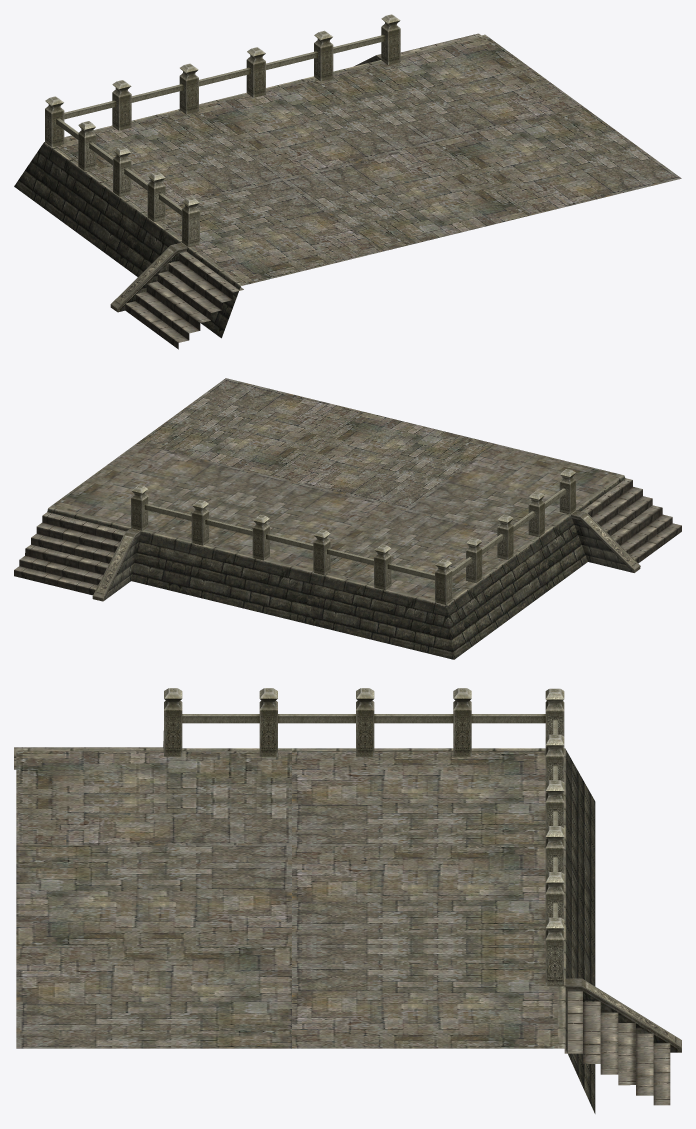
The model's file is ob-tower01_03.glb.
The picture shows the model from 3 angles, top to bottom: view 1: azimuth 30°, elevation 25°; view 2: azimuth 150°, elevation 25°; view 3: azimuth 270°, elevation 25°; orthographic projection. The views are drawn at different scales.
Parts seen in each view (by area): view 1: ob-013-tower01_04; view 2: ob-013-tower01_04; view 3: ob-013-tower01_04.
Part boxes in pixels (x1,y1,x2,y2): ob-013-tower01_04: (14,14,681,349); ob-013-tower01_04: (14,378,681,659); ob-013-tower01_04: (14,688,681,1113).
Size of the model in its own units: 42.51 by 7.32 by 34.46.
1 material, 1 textured.
